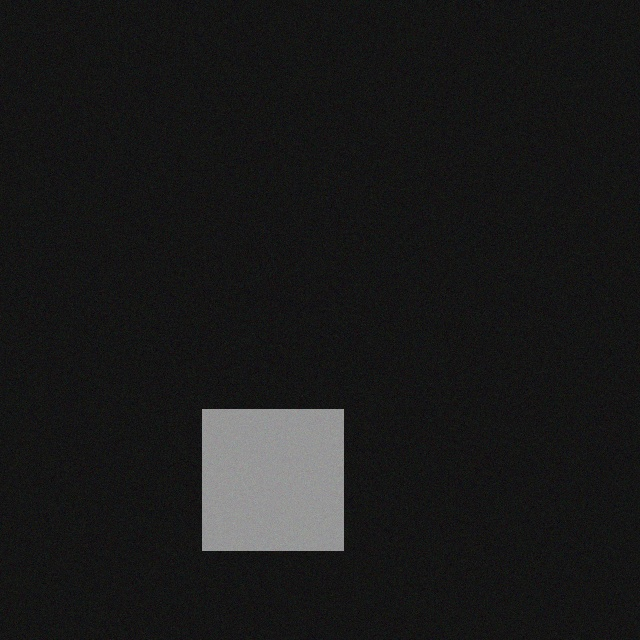square: (216, 424, 357, 565)
